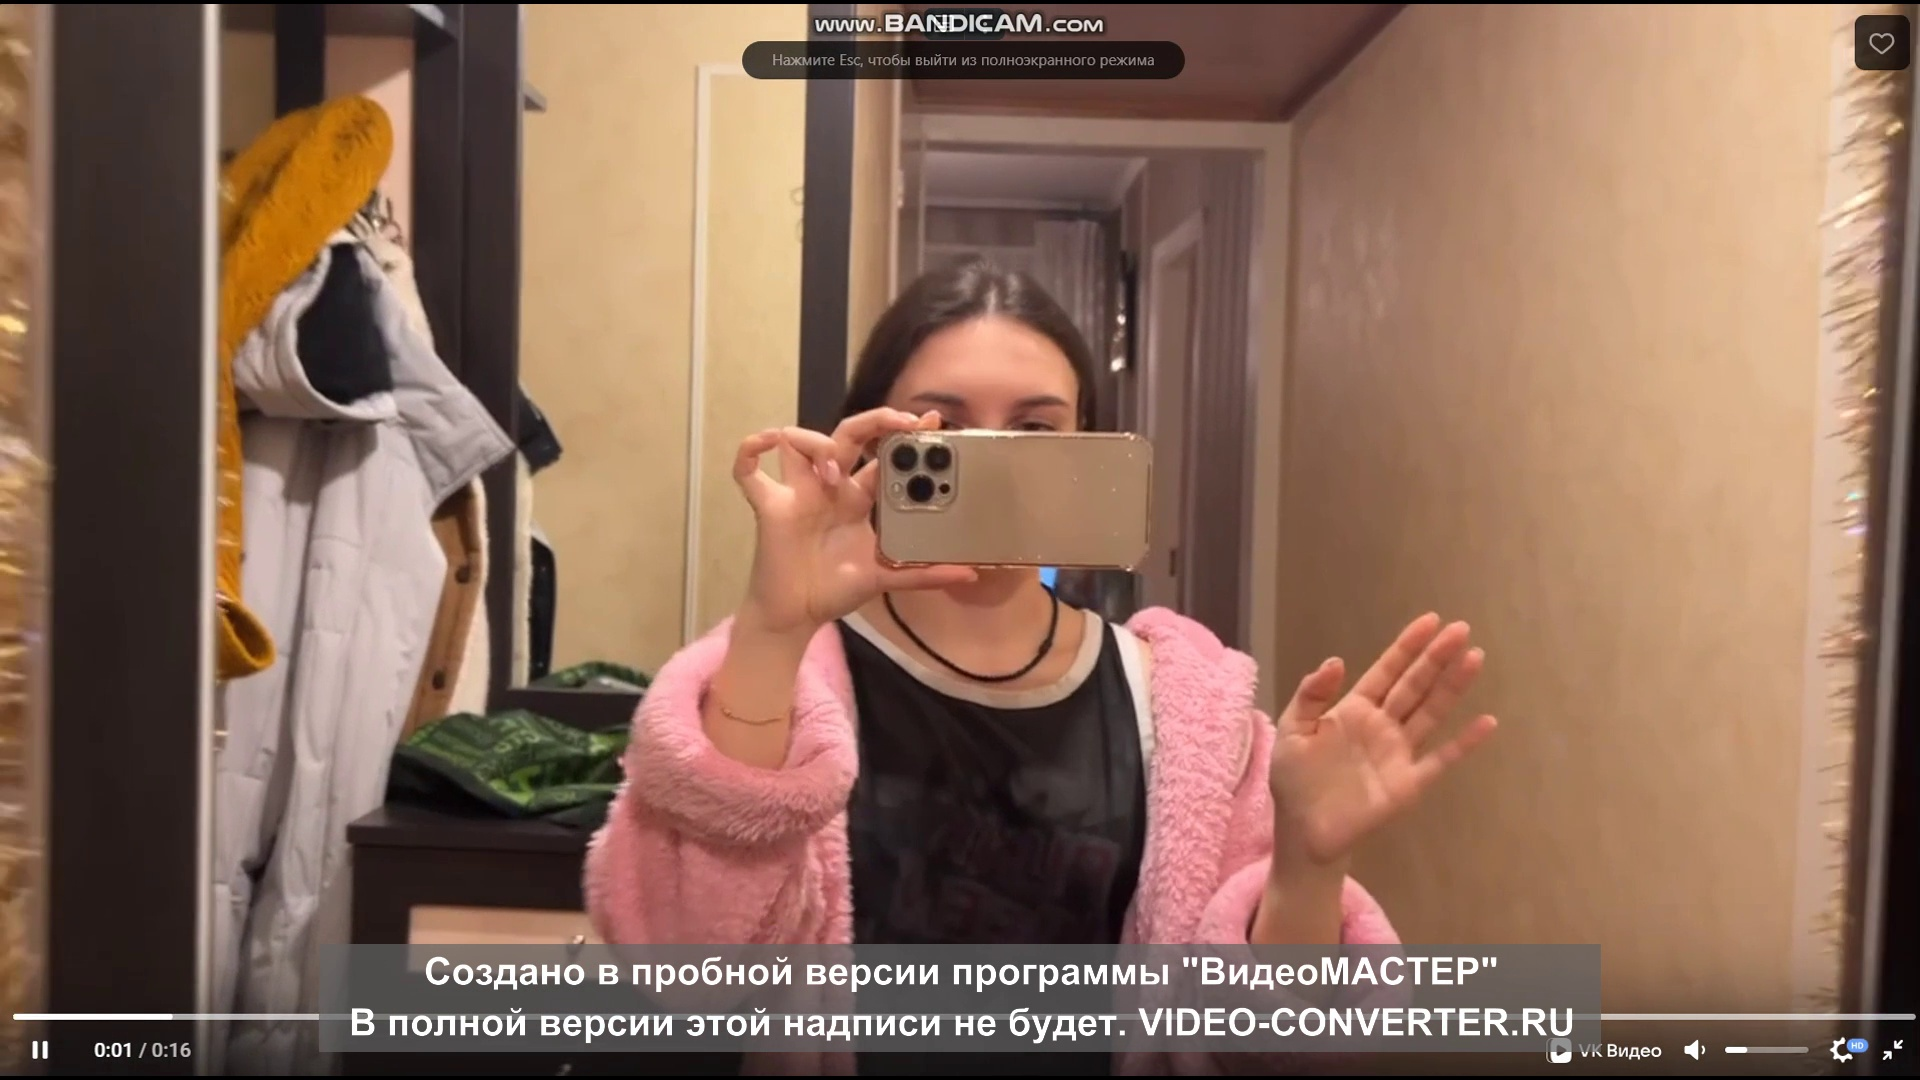Ладонь: (1262, 611, 1495, 860)
